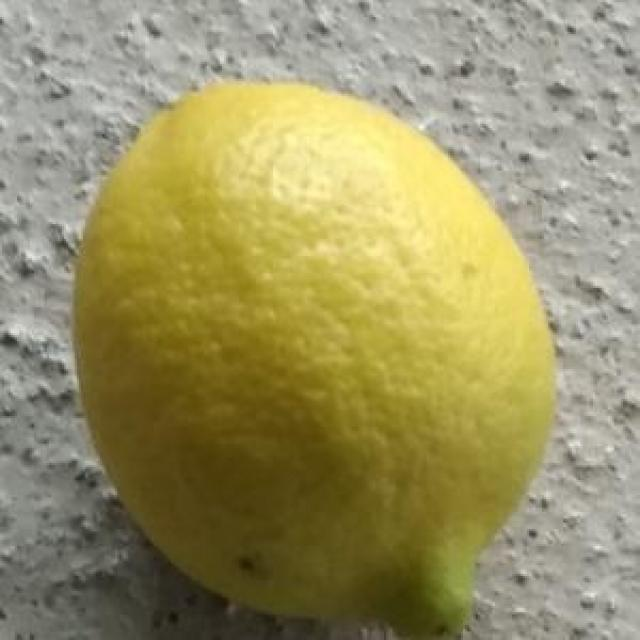lemon: (81, 76, 553, 628)
